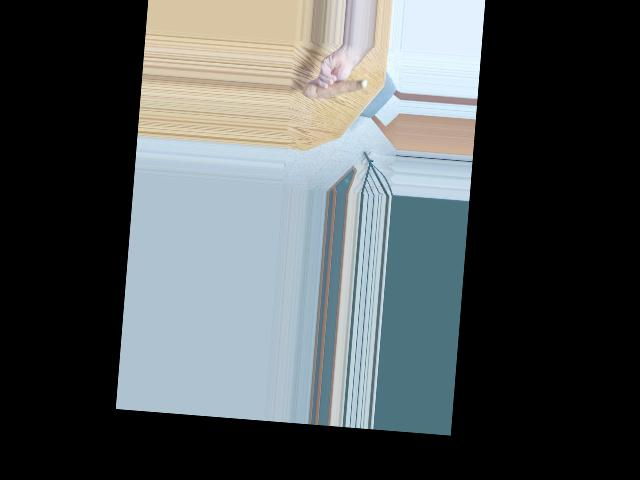sweet_potato: (305, 72, 364, 105)
